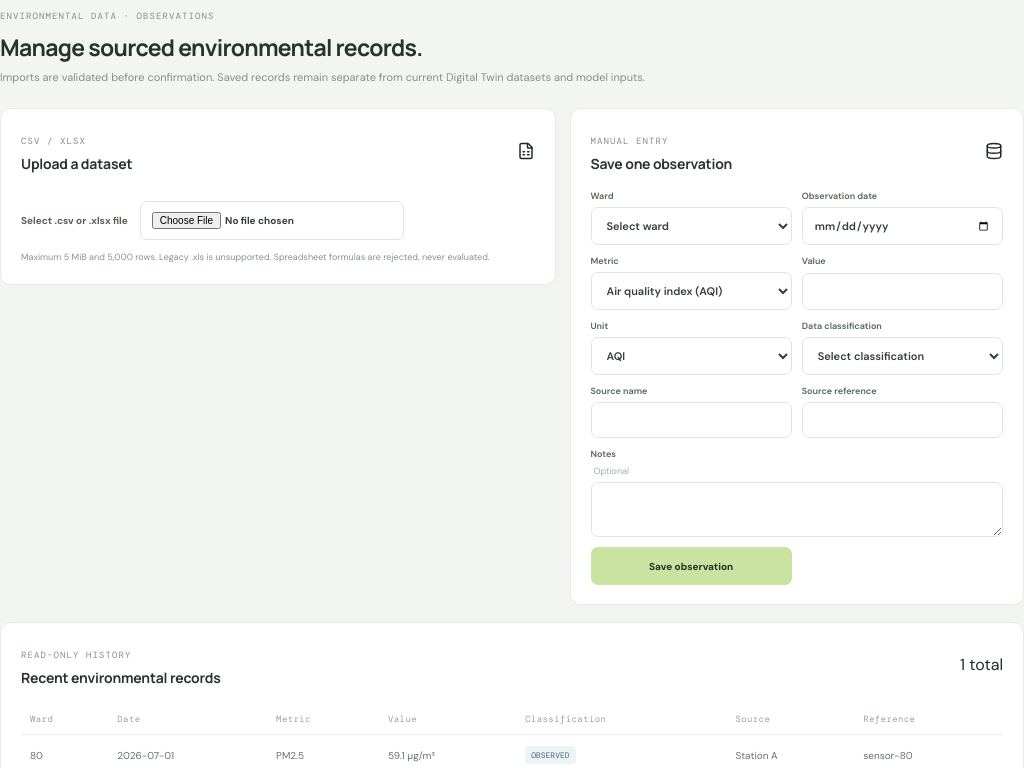
Test case: Environmental data management › requires explicit manual fields, submits a typed record, and shows classified history
The width and height of the screenshot is (1024, 768).
expect the text "observed" is shown: met, box [525,746,576,764]
Click the button "Save observation": [691, 566] box [590,547,792,585]
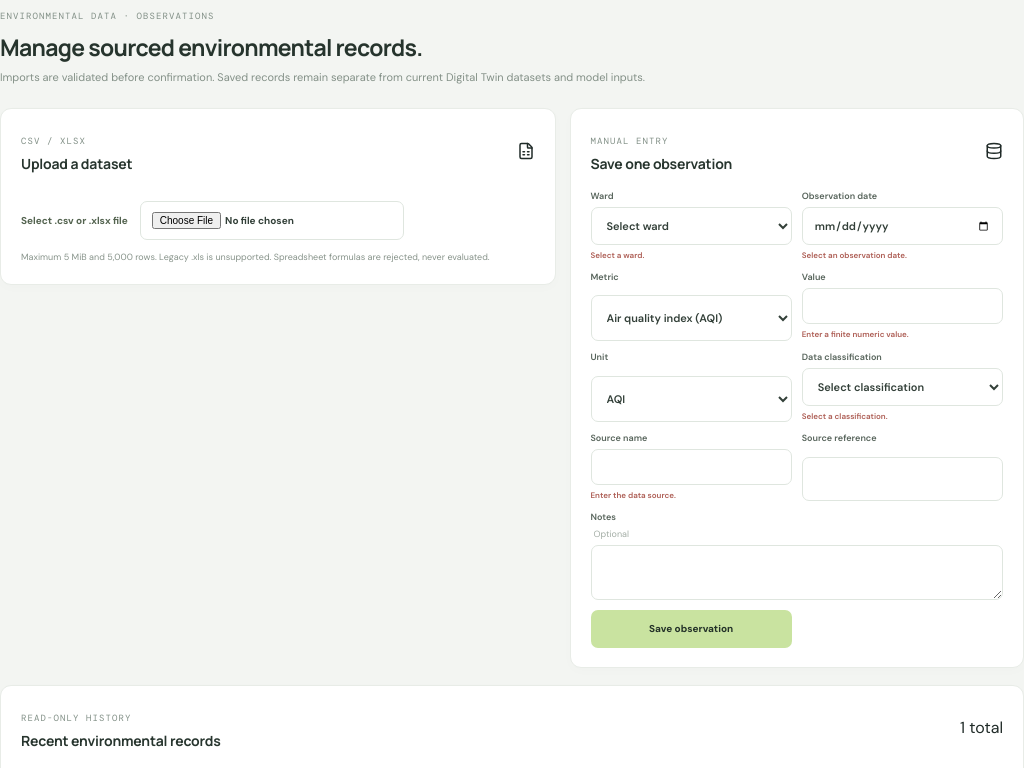
expect the text "Select a ward." is shown: met, box [590,250,644,260]
Select "080 · CHANDNI CHOWK" in the dropdown labelled "Ward Select a ward.": [691, 226] box [590,207,792,245]
In the date field labelled "Observation date Select an observation date.": [902, 226] box [802,207,1003,245], type "2026-07-03"
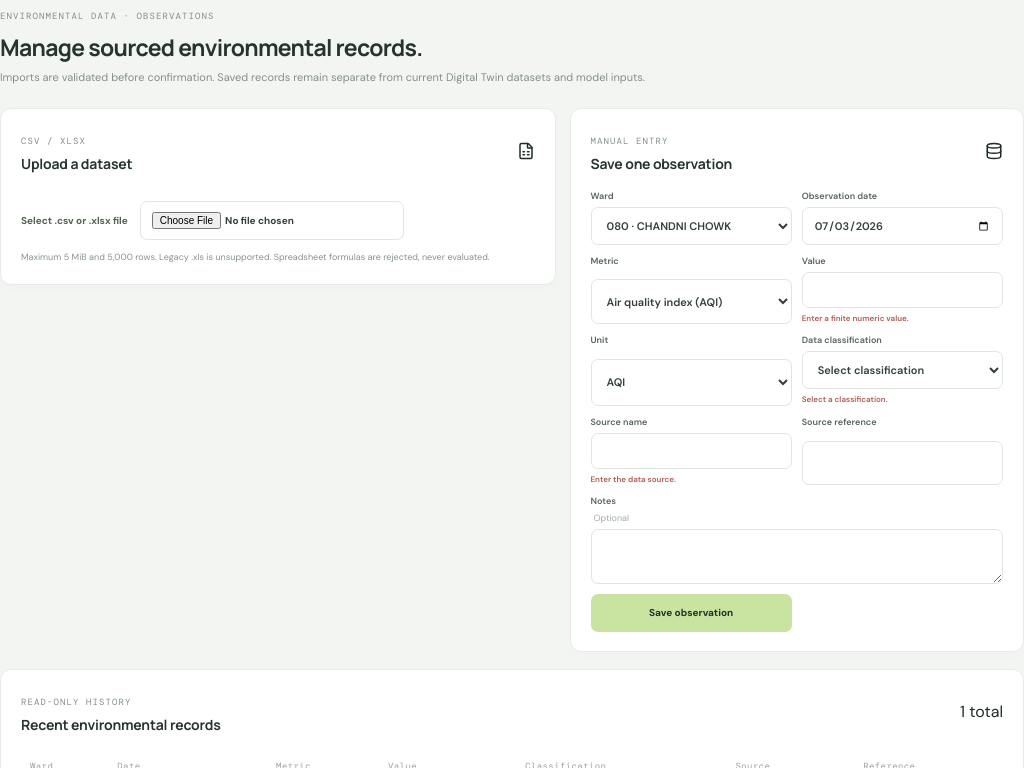
Select "PM2.5" in the dropdown labelled "Metric": [691, 302] box [590,279,792,324]
In the number field labelled "Value Enter a finite numeric value.": [902, 290] box [802,272,1003,308], type "12.4"
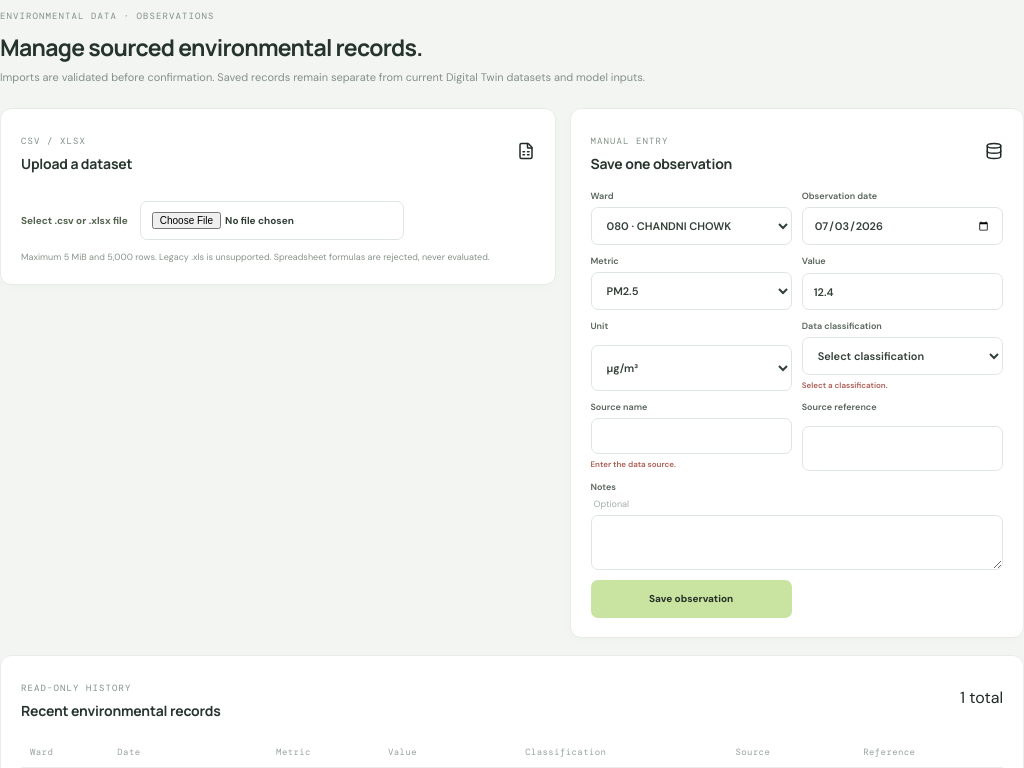
In the field labelled "Source name Enter the data source.": [691, 436] box [590,418,792,454], type "Manual sensor record"
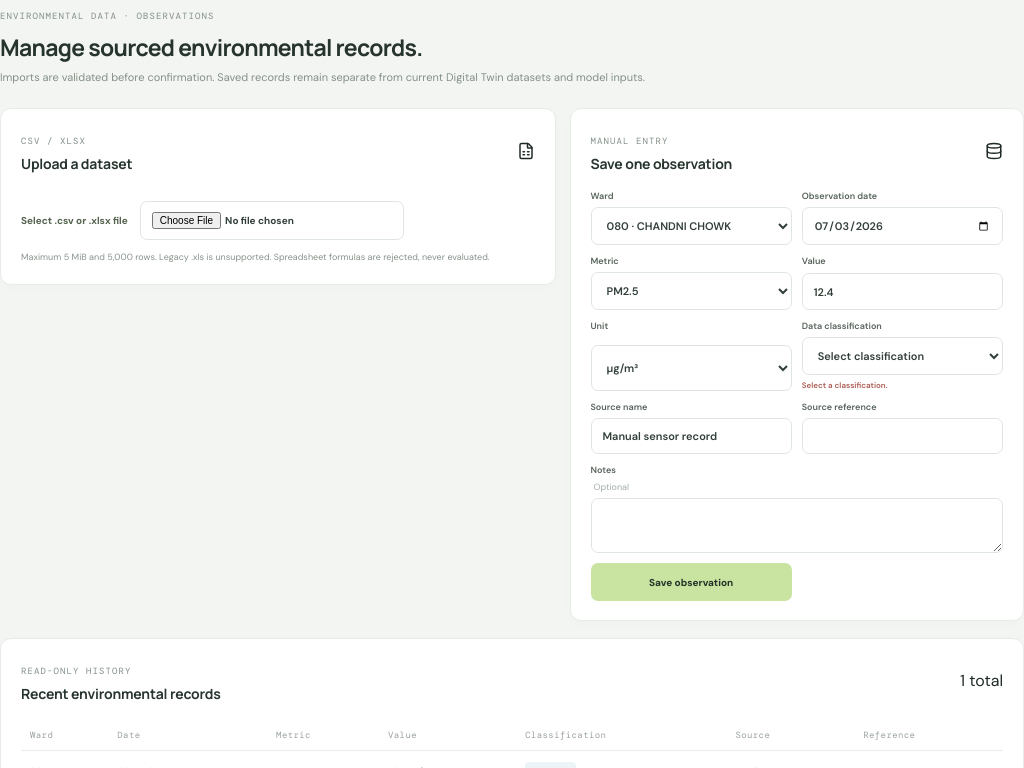
Select "observed" in the dropdown labelled "Data classification Select a classification.": [902, 356] box [802,337,1003,375]
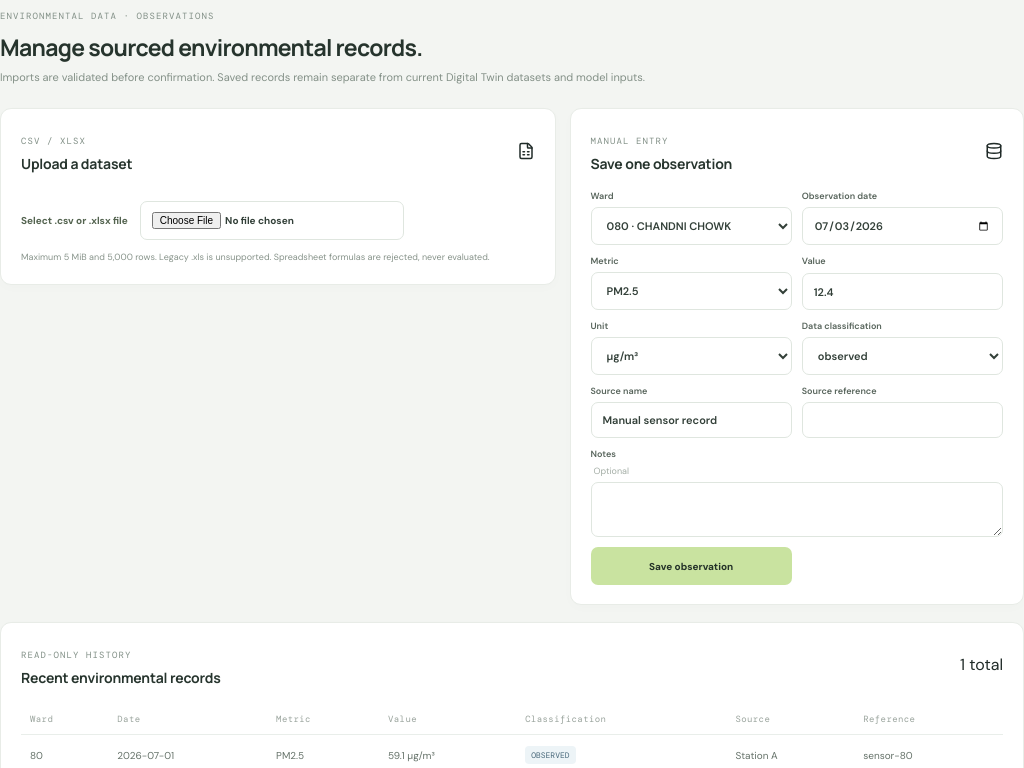
Click the button "Save observation": [691, 566] box [590,547,792,585]
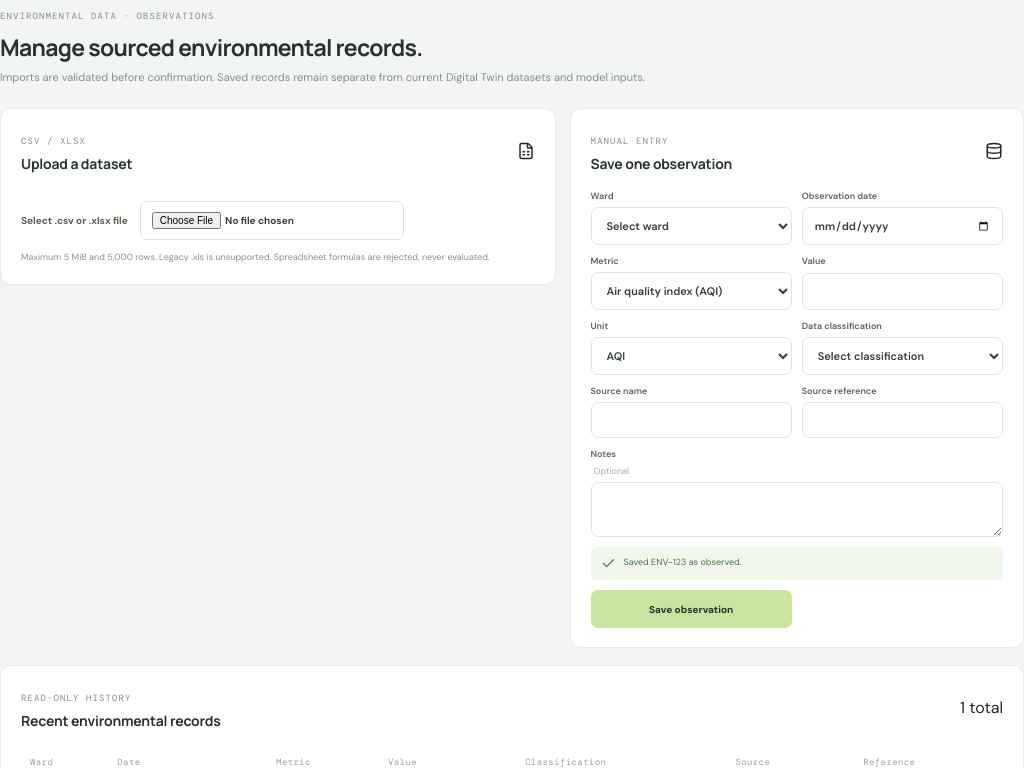
expect the text "Saved ENV-123 as observed." is shown: met, box [590,547,1003,580]
